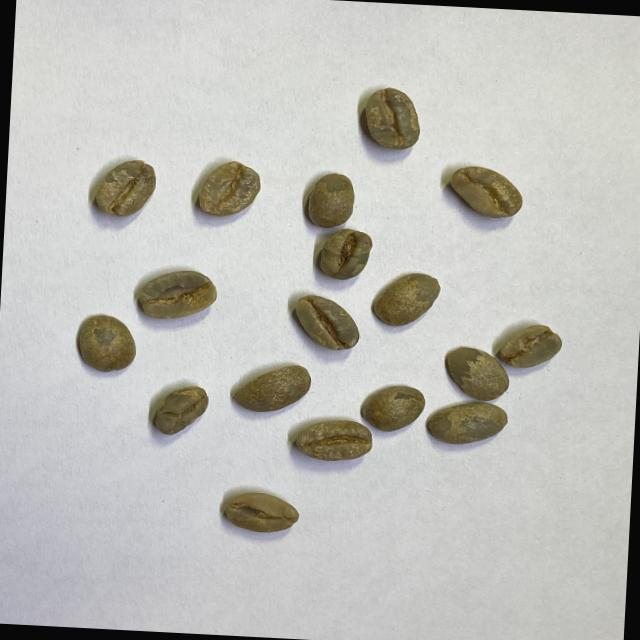bad: (137, 268, 217, 322), (152, 383, 211, 439), (317, 228, 374, 282)
good: (442, 343, 514, 404), (448, 164, 526, 220), (92, 156, 158, 222), (371, 270, 442, 330), (424, 400, 510, 448), (232, 361, 311, 413), (293, 293, 360, 352), (75, 314, 140, 374), (363, 86, 422, 152), (199, 159, 262, 219), (220, 488, 301, 534), (294, 418, 373, 462), (497, 320, 562, 372), (360, 382, 426, 433), (305, 171, 357, 228)
